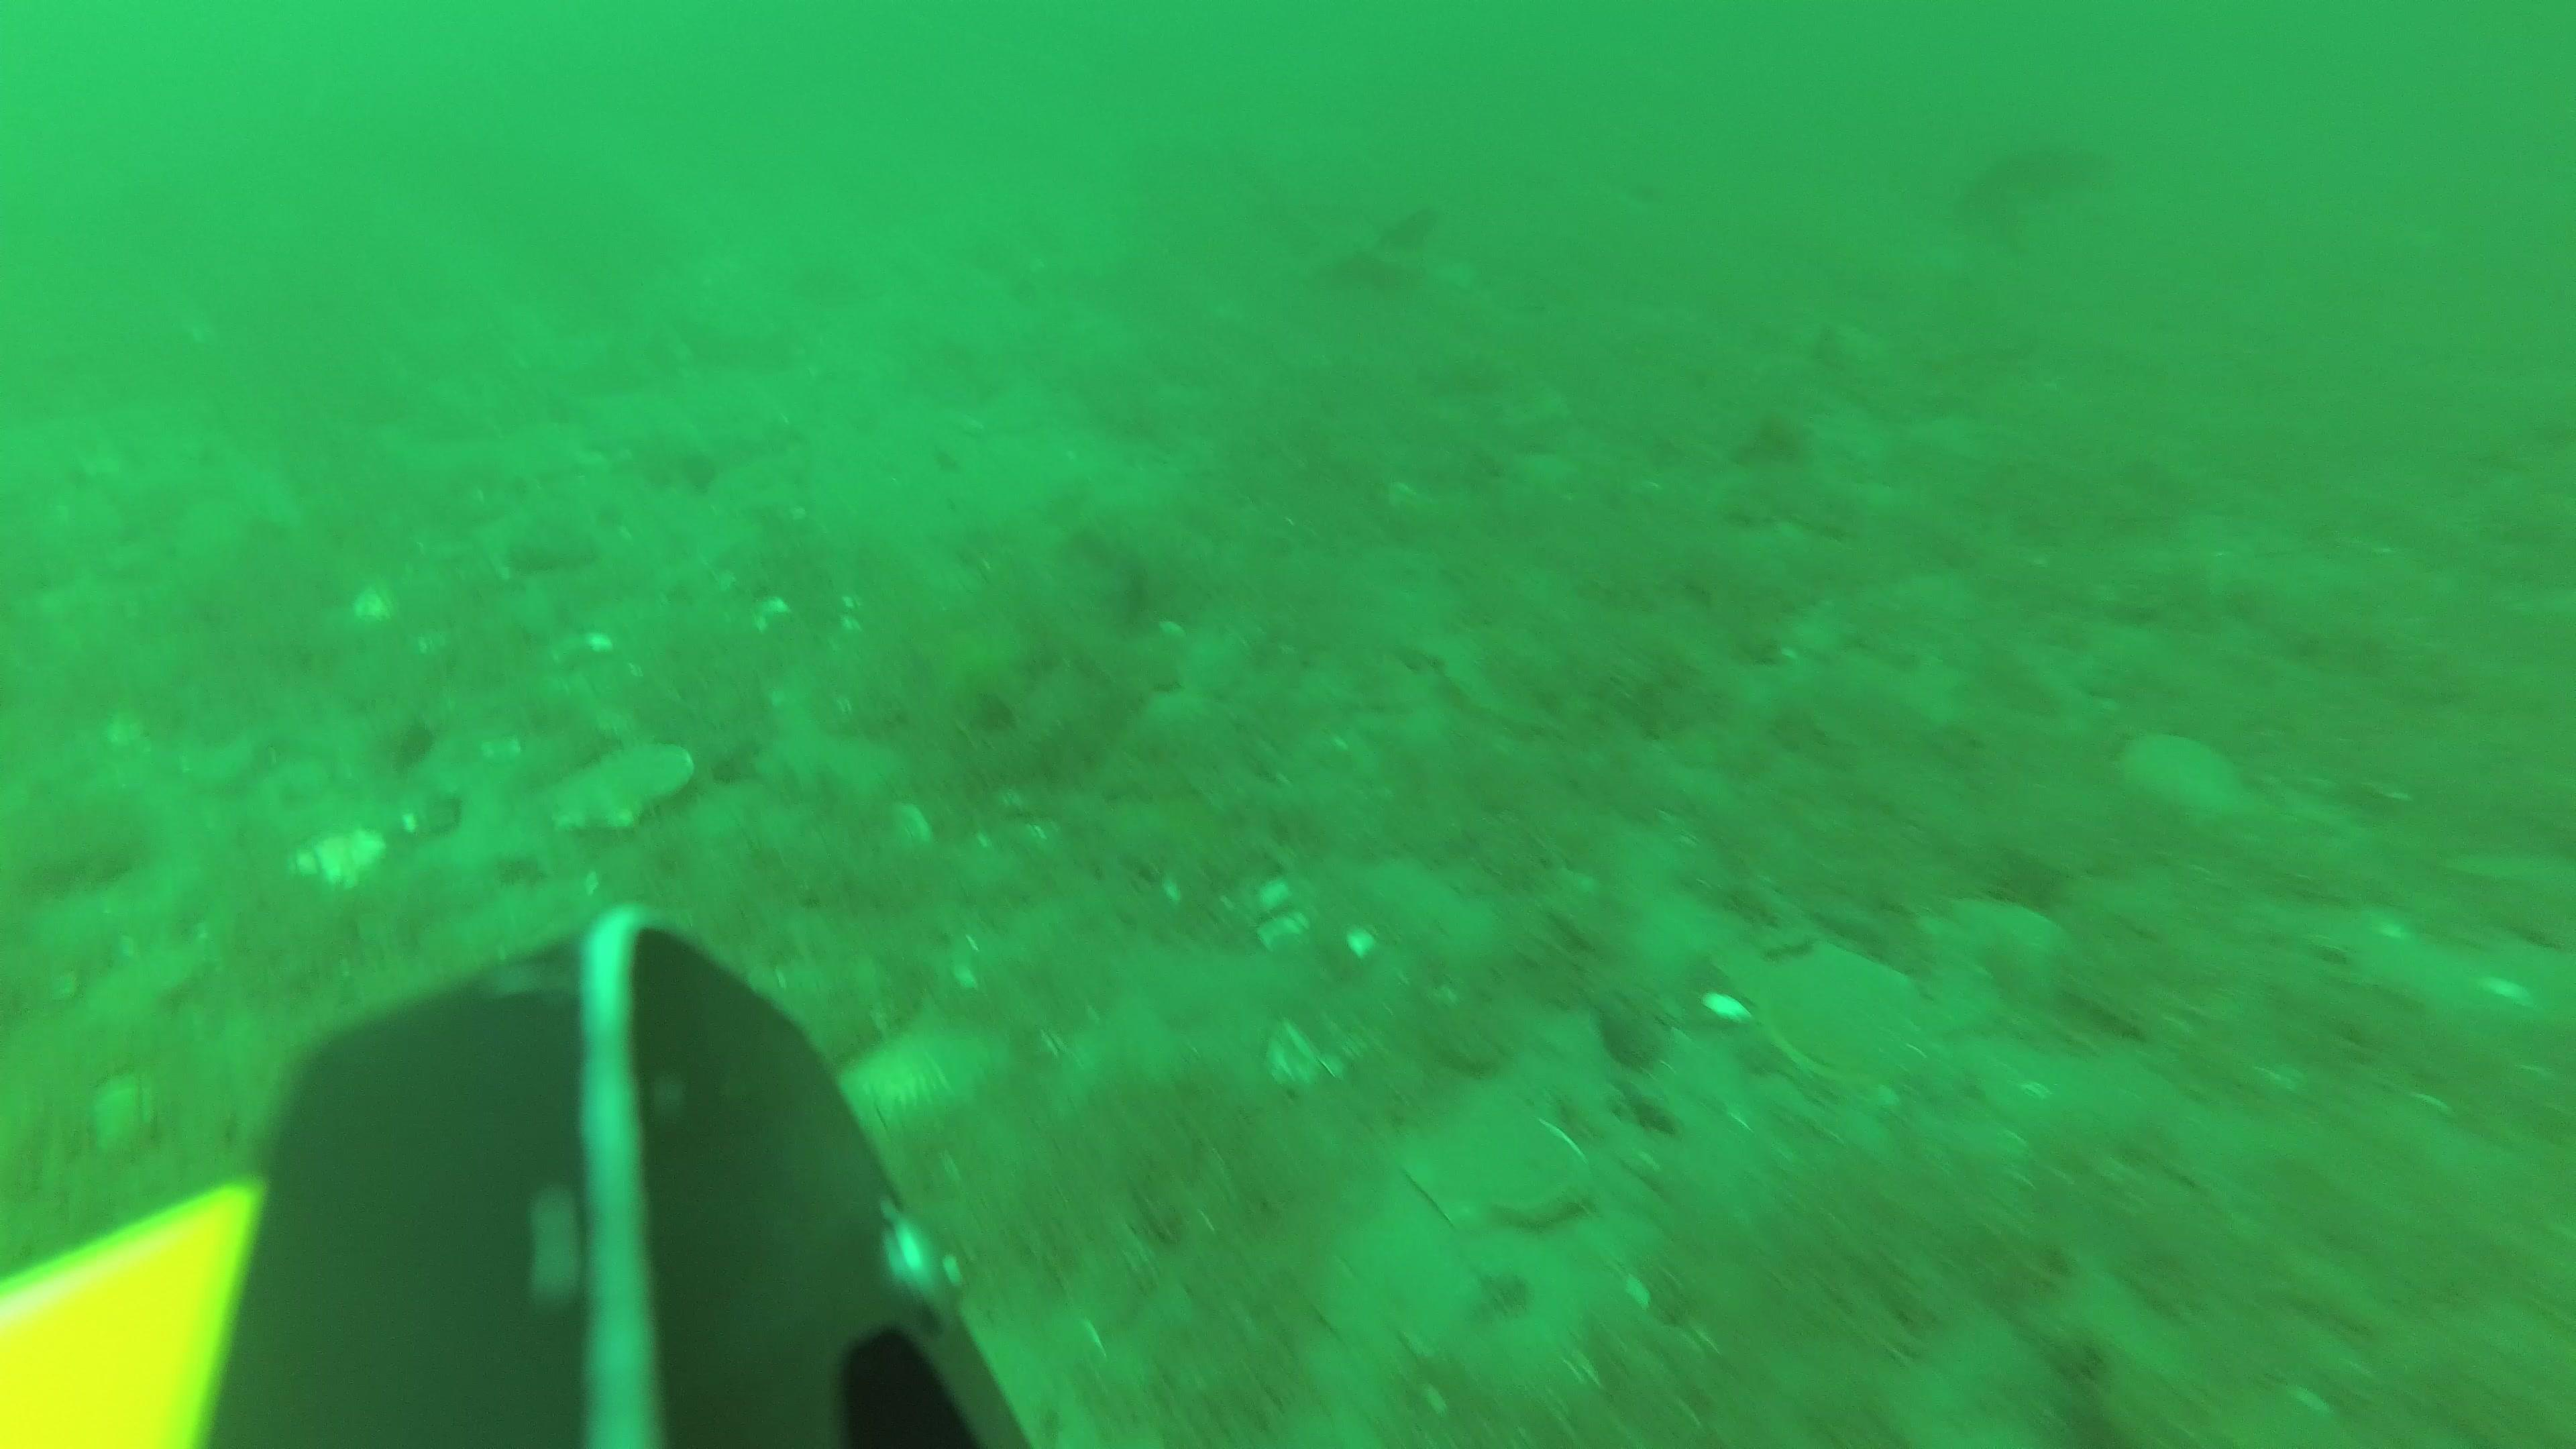scallop: (1766, 941, 1918, 1079), (1417, 1109, 1583, 1226), (846, 1035, 1000, 1132), (547, 743, 694, 833), (2132, 732, 2245, 830)
